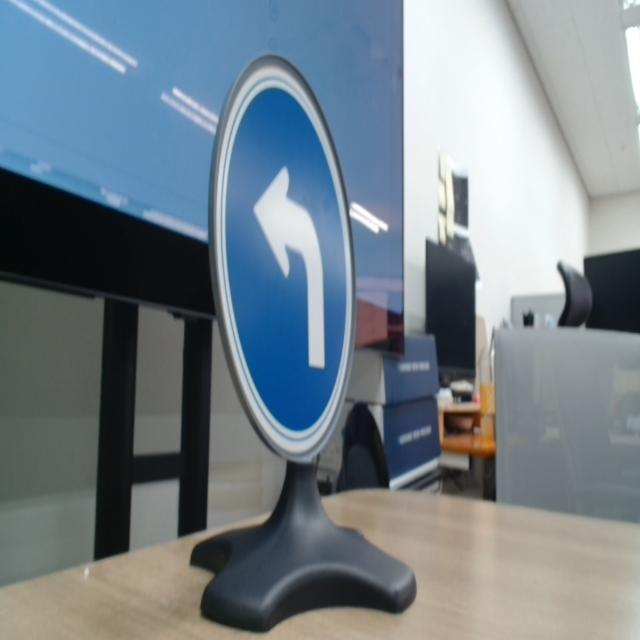left_direction: (206, 56, 363, 463)
